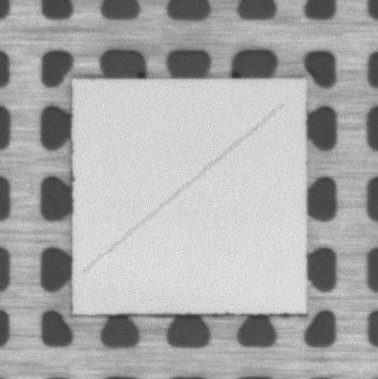DIE_CRACK: (83, 105, 282, 273)
